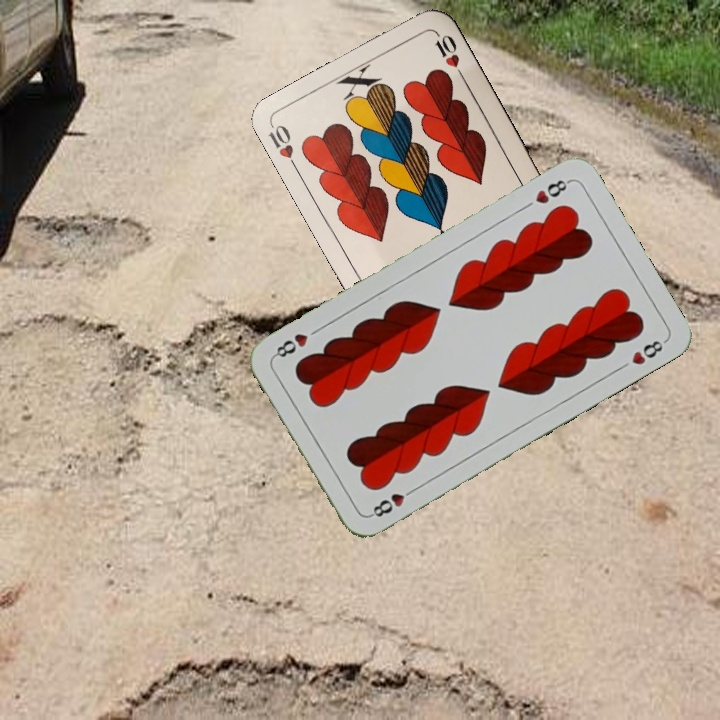H10: (265, 120, 303, 176)
H8: (365, 483, 419, 520), (531, 175, 573, 207)
